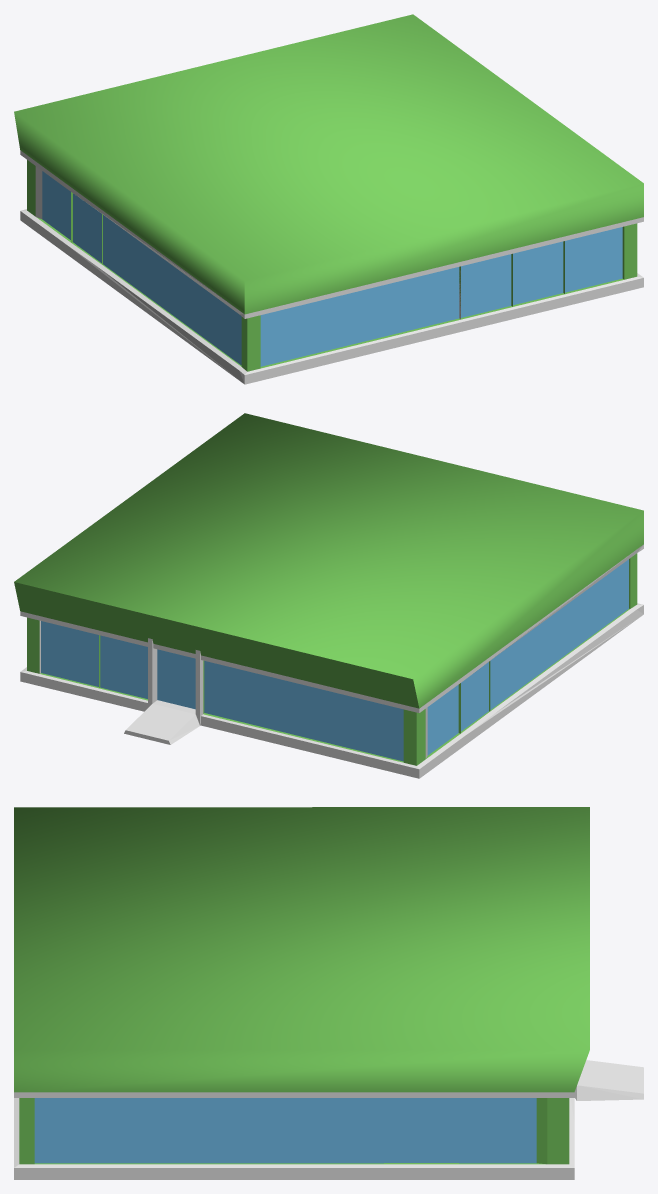
The model's file is Shop8x8x2Green.fbx.
The picture shows the model from 3 angles, top to bottom: view 1: azimuth 30°, elevation 25°; view 2: azimuth 150°, elevation 25°; view 3: azimuth 270°, elevation 25°; orthographic projection. The views are drawn at different scales.
Parts seen in each view (by area): view 1: Shop.001; view 2: Shop.001; view 3: Shop.001.
Boxes of the visible parts, <box> form: Shop.001: <box>14,14,643,384</box>; Shop.001: <box>14,413,643,778</box>; Shop.001: <box>14,807,643,1179</box>.
Size of the model in its own units: 7.96 by 1.98 by 8.72.
1 material, 1 textured.
